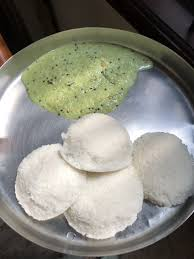idli: (14, 119, 194, 233)
